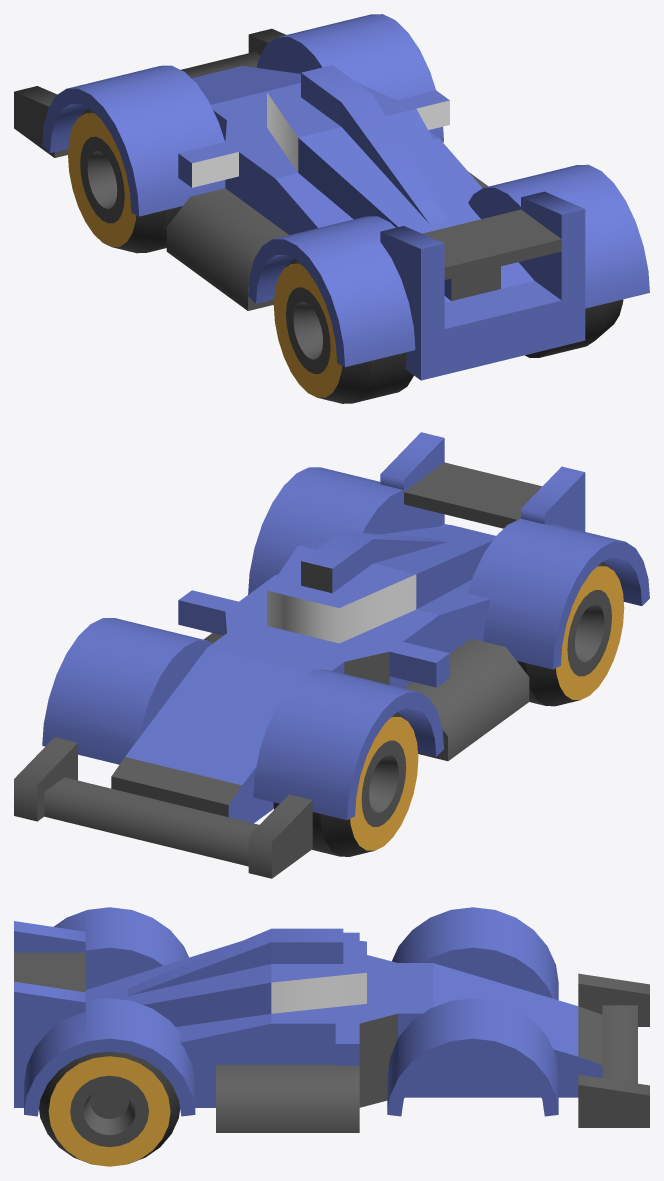
File: raceFuture.glb
3 renders of one model, top to bottom at view 1: azimuth 30°, elevation 25°; view 2: azimuth 150°, elevation 25°; view 3: azimuth 270°, elevation 25°, orthographic. The views are drawn at different scales.
Parts seen in each view (by area): view 1: body, wheel_backLeft, wheel_frontLeft, wheel_backRight; view 2: body, wheel_frontLeft, wheel_backLeft; view 3: body, wheel_backRight.
Boxes of the visible parts, bbox=[...] form: body: bbox=[14, 14, 649, 380]; wheel_backLeft: bbox=[273, 259, 413, 403]; wheel_frontLeft: bbox=[68, 108, 182, 253]; wheel_backRight: bbox=[525, 299, 623, 357]; body: bbox=[14, 432, 649, 878]; wheel_frontLeft: bbox=[273, 712, 418, 856]; wheel_backLeft: bbox=[517, 561, 624, 706]; body: bbox=[14, 907, 649, 1132]; wheel_backRight: bbox=[39, 1051, 179, 1166].
Size of the model in its own units: 1.3 by 0.8325 by 2.66.
